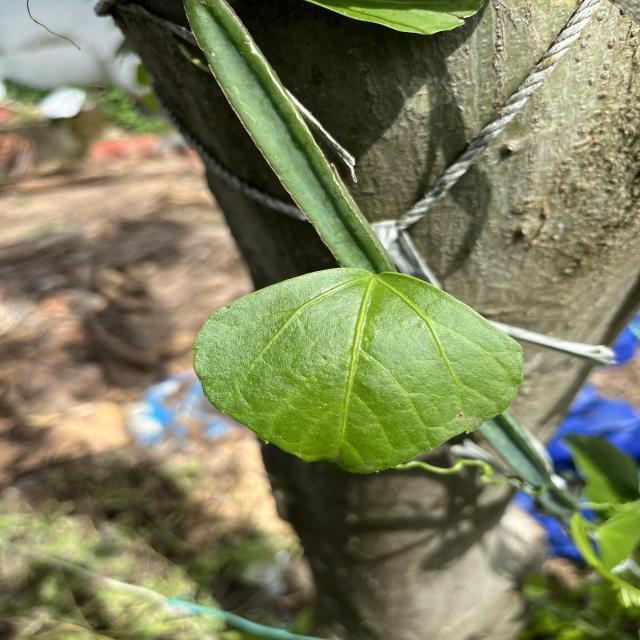Cissus quadrangularis: (185, 264, 530, 477)
